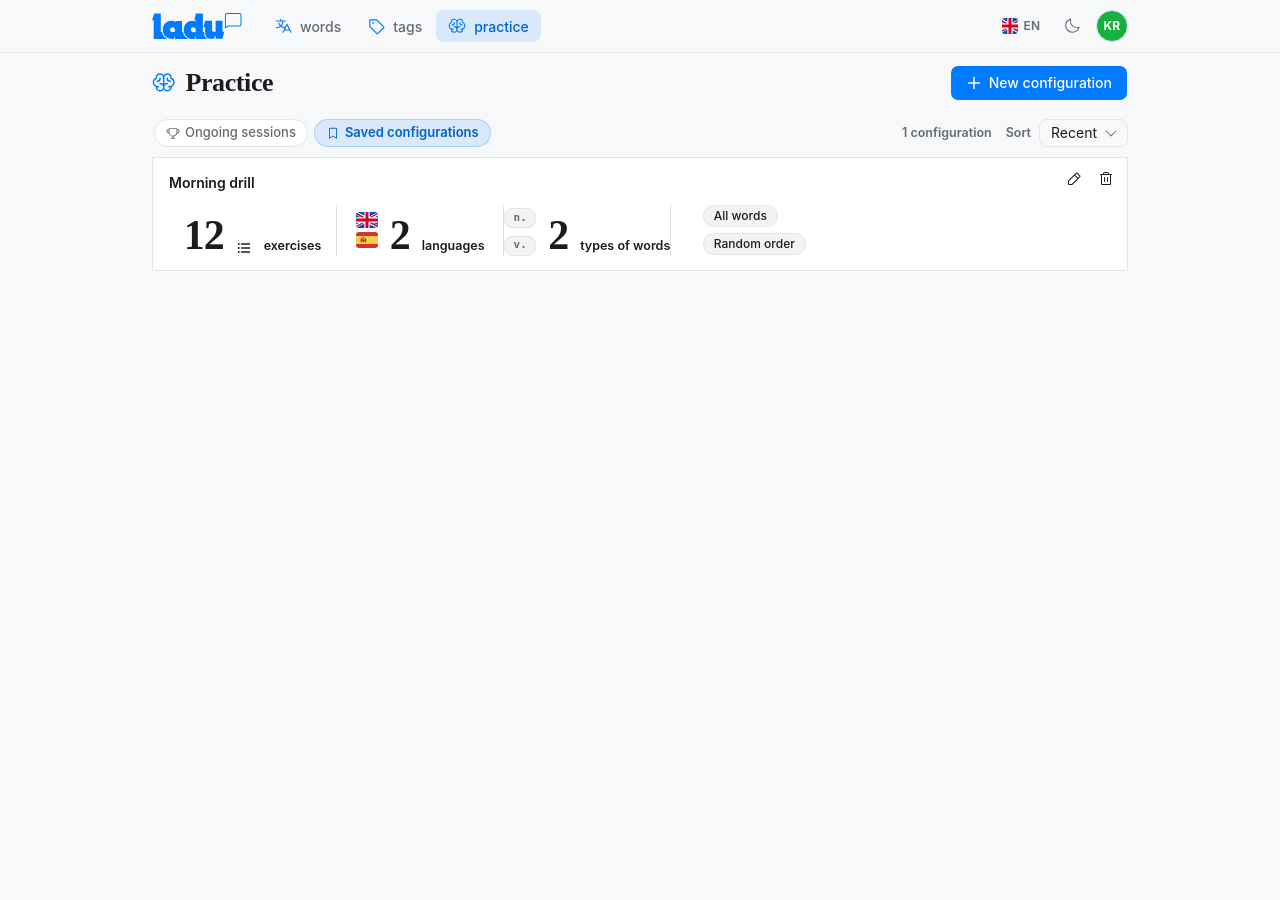
Test: PracticePage — saved configurations › save › keeps the dialog open and names the problem when the name is taken
Step 1. Click the button "New configuration" → (1039, 83), box x1=950 y1=65 x2=1128 y2=101
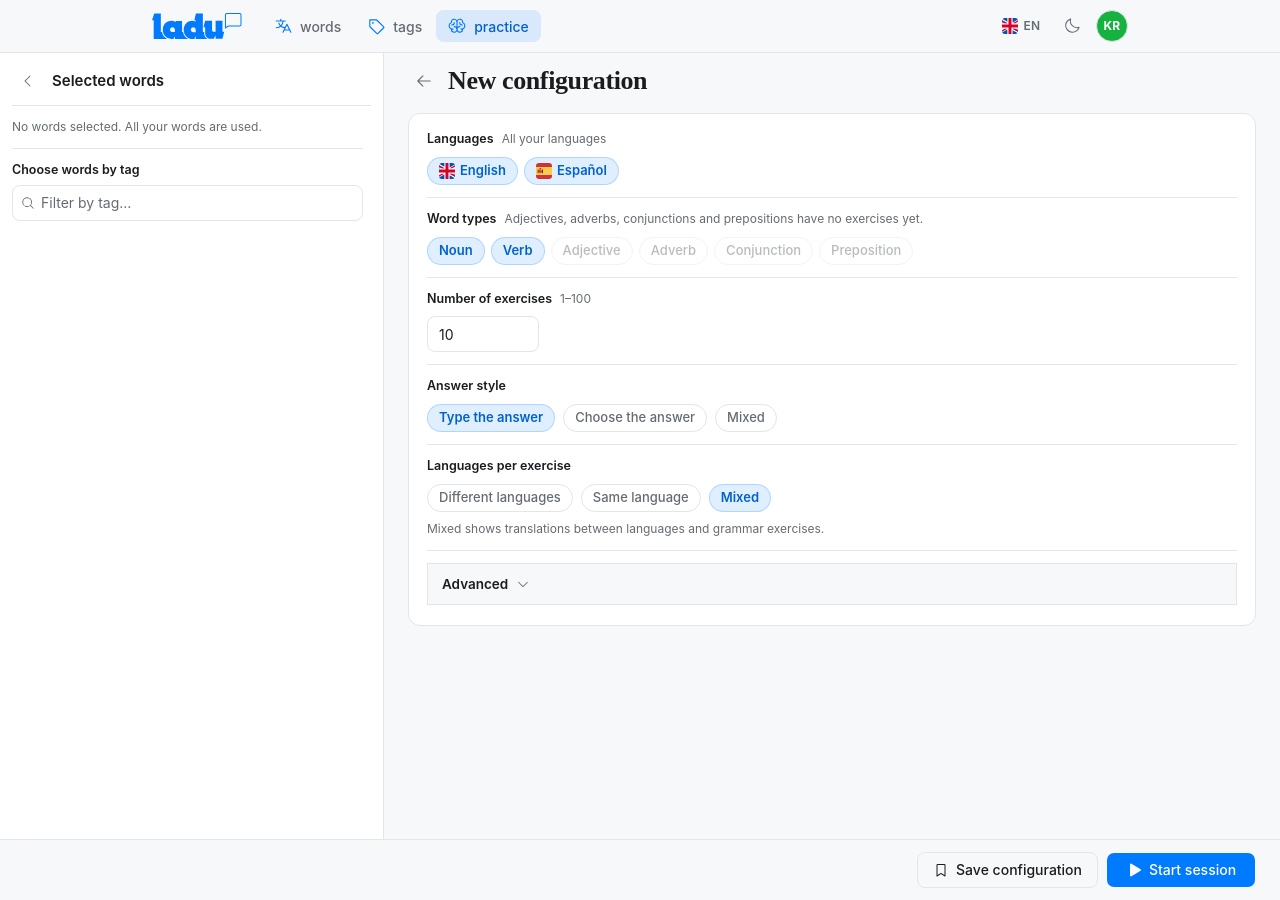
Step 2. Click the button "Save configuration" → (1008, 870), box x1=917 y1=852 x2=1098 y2=888
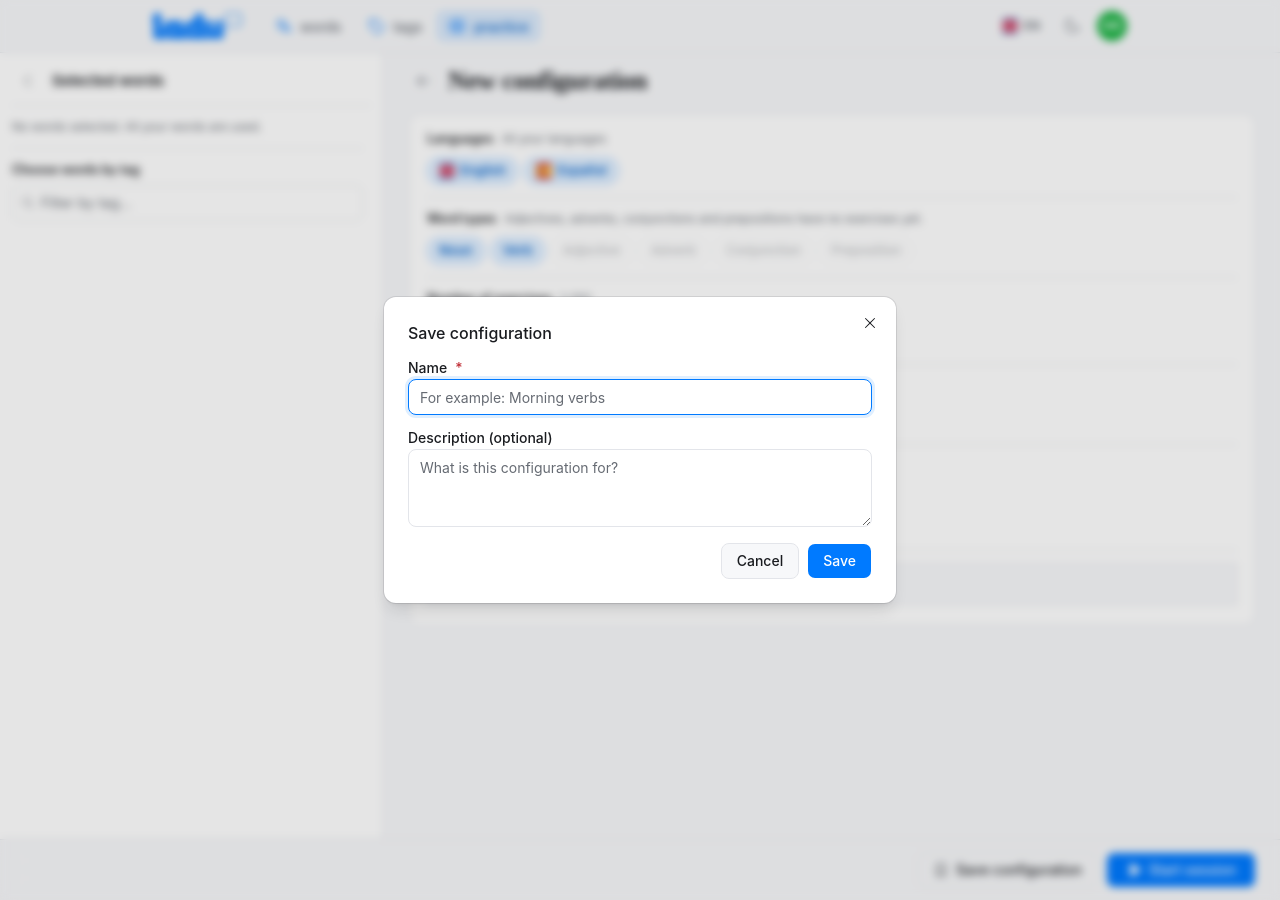
Step 3. Type "MORNING DRILL" into the field labelled "Name *" → (640, 397), box x1=408 y1=379 x2=872 y2=415
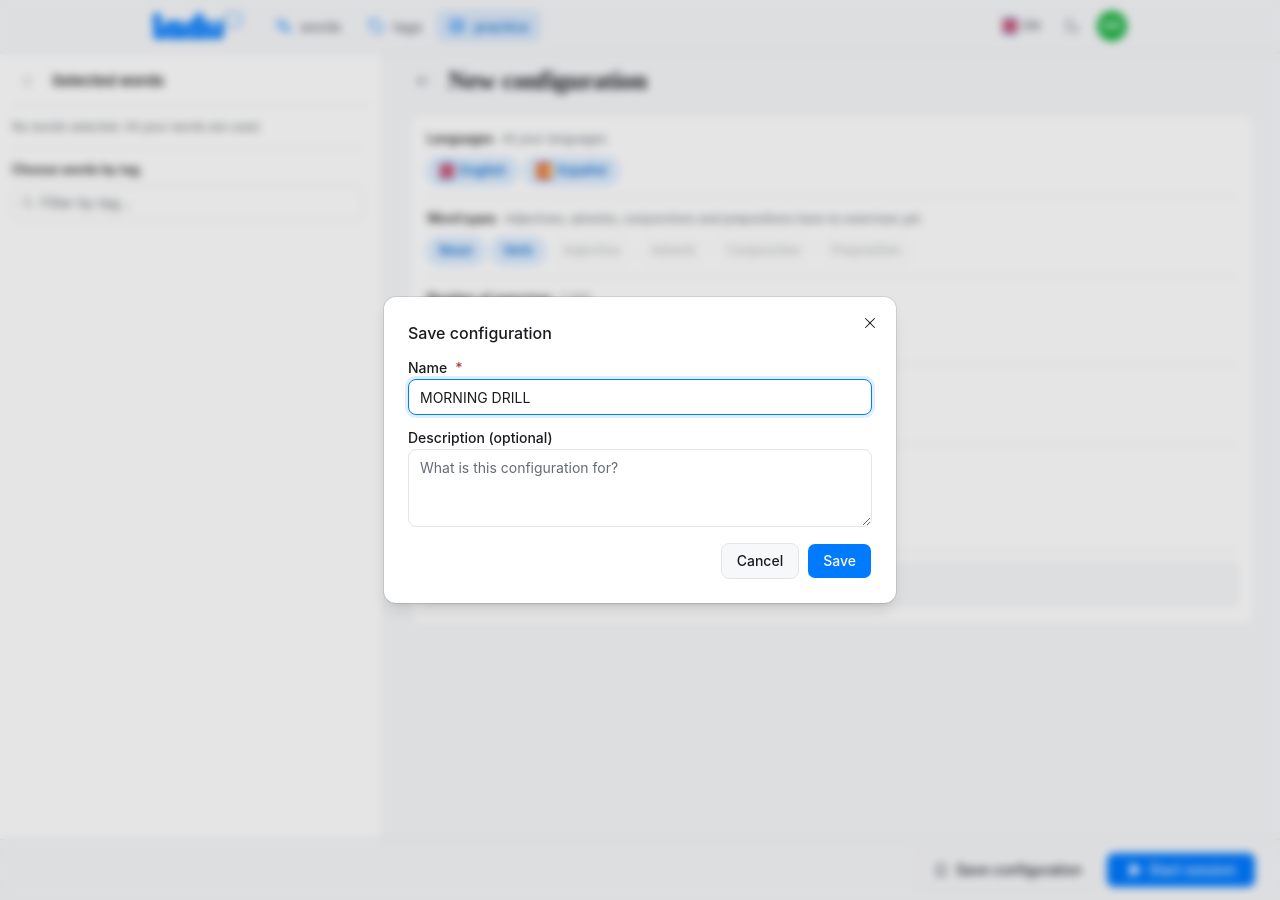
Step 4. Click the button "Save" → (840, 561), box x1=807 y1=543 x2=872 y2=579
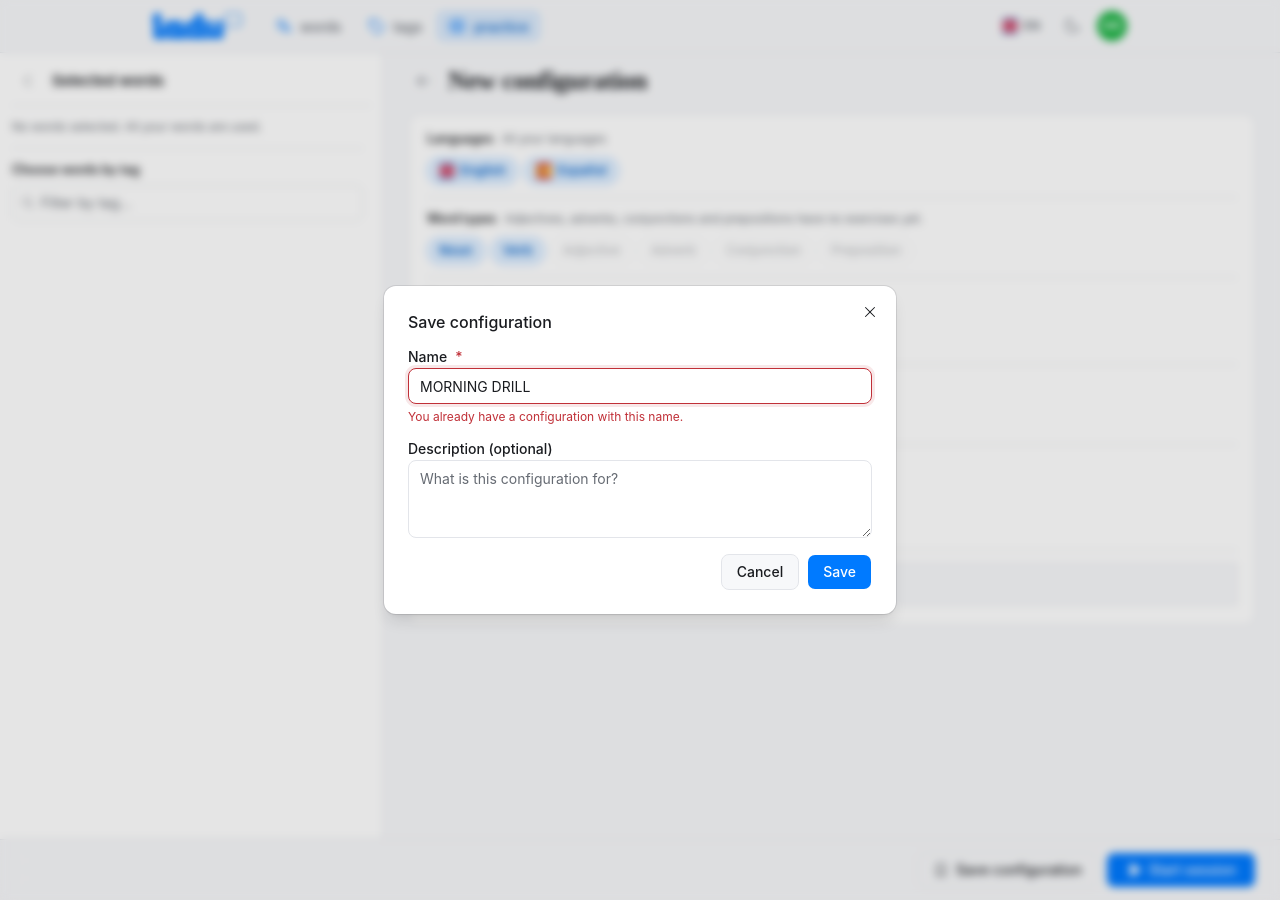
Expected: the dialog is shown, x1=384 y1=286 x2=896 y2=614
Expected: the text "You already have a configuration with this name." is shown, x1=408 y1=409 x2=683 y2=424
